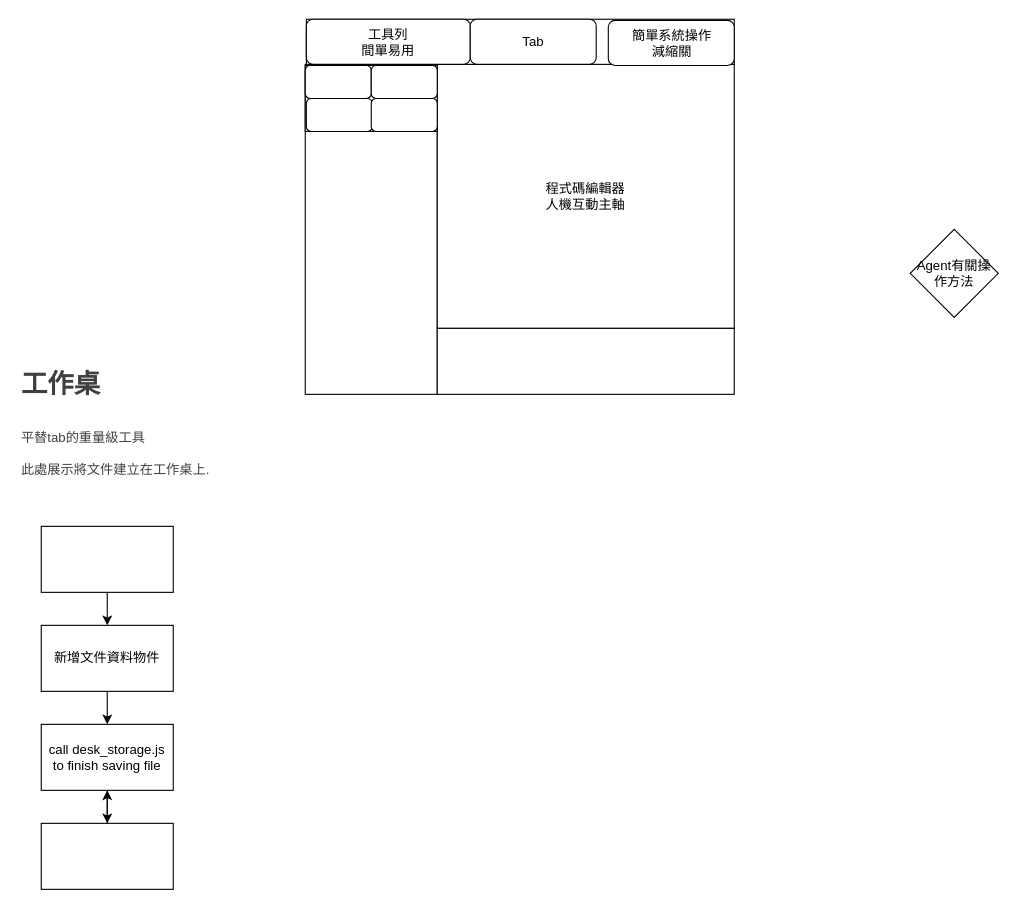
This 1018x909 diagram has some shape labels left out. Each missing label, with the box of its shape:
file_desk.js: (40, 525, 173, 592)
底部文字操作介面 Terminal/Output: (436, 327, 734, 394)
更新工作桌列表: (40, 822, 173, 889)
檔案管理 講究泛 用性: (304, 63, 437, 394)
